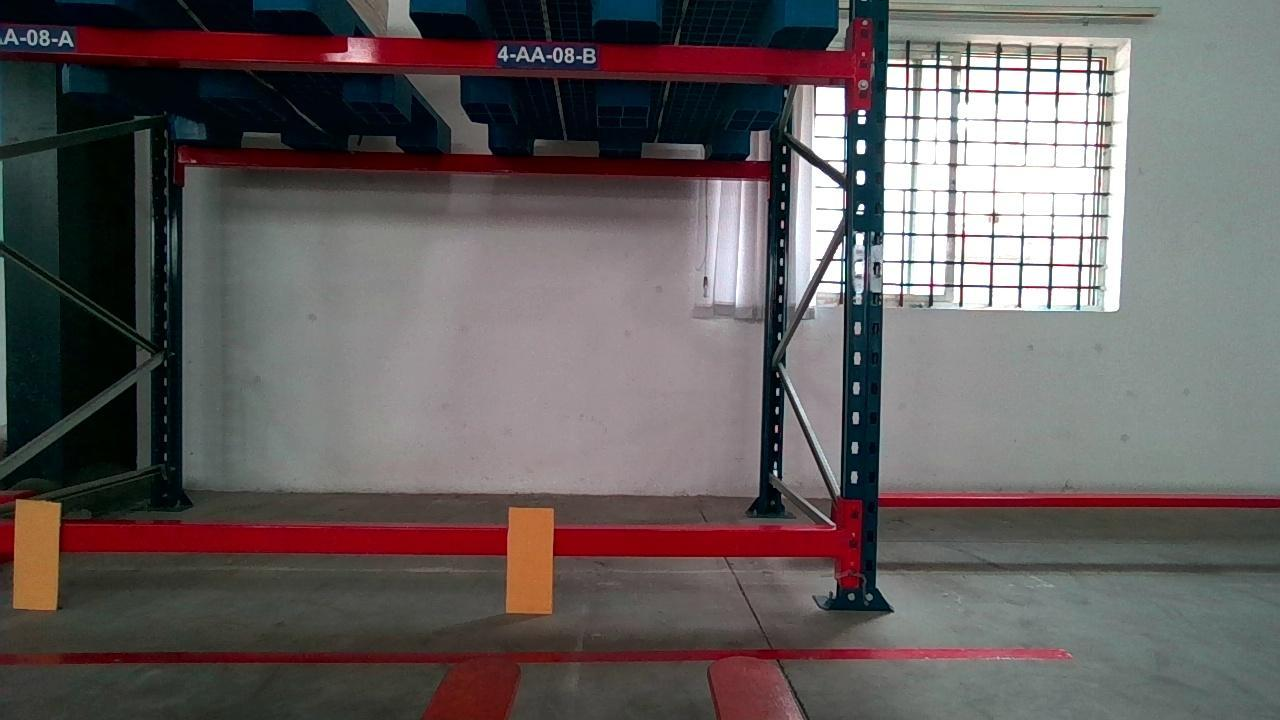h_rack: (6, 21, 861, 78), (71, 524, 848, 554)
orange_strip: (506, 504, 554, 615), (14, 501, 56, 610)
red_line: (2, 643, 1069, 670)
